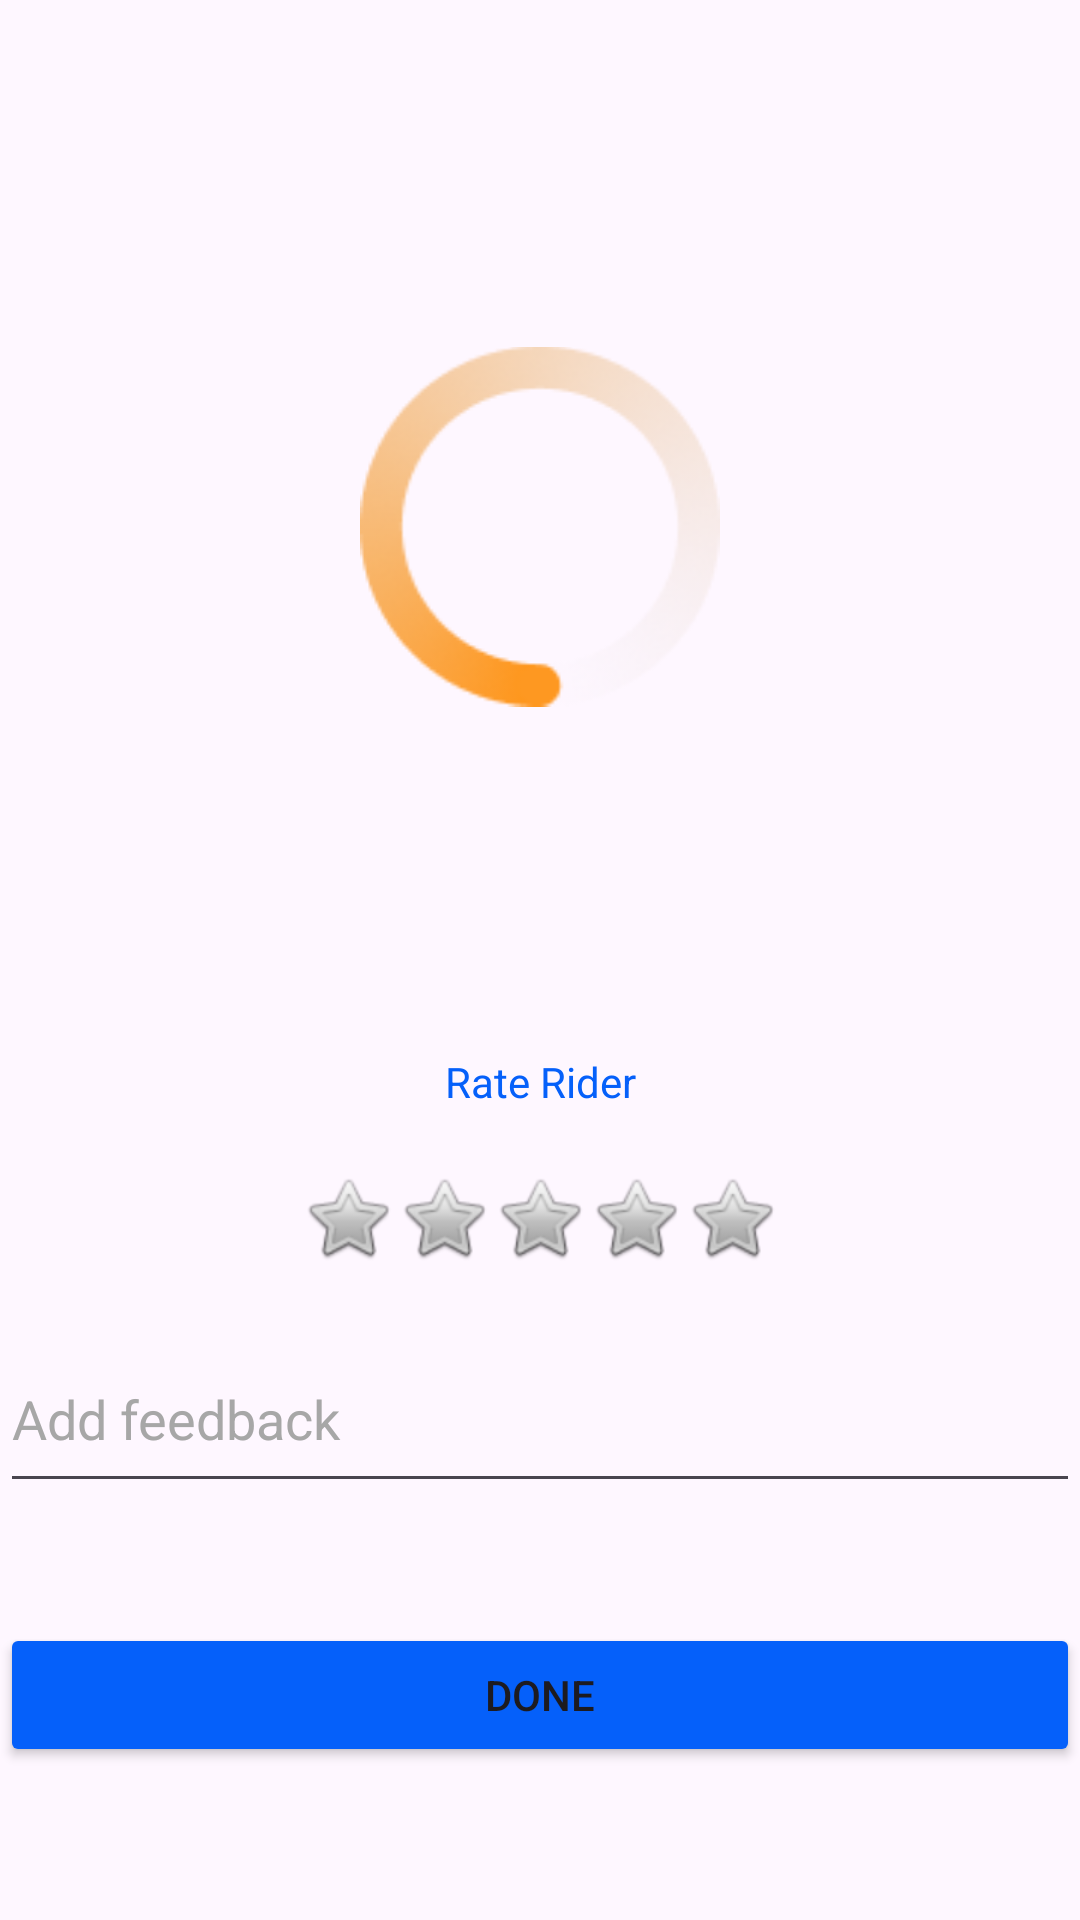

Screen size 1080×1920. Icon name, then its box in pixels as bbox=[x1, y1, x2, y2]:
star off: bbox=[309, 1180, 389, 1258], bbox=[405, 1180, 485, 1258], bbox=[501, 1180, 581, 1258], bbox=[597, 1180, 677, 1258], bbox=[693, 1180, 773, 1258]
